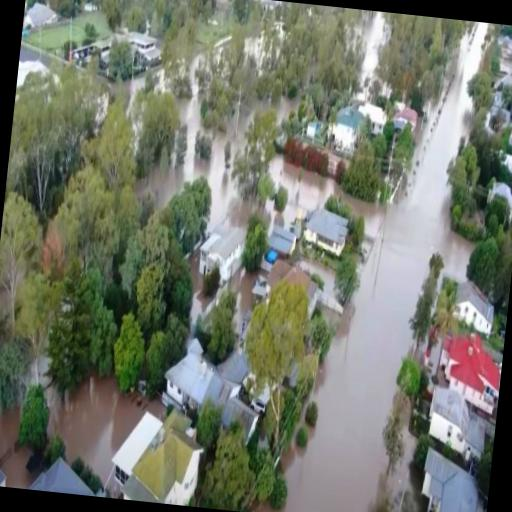flood: (269, 22, 488, 512), (137, 96, 256, 236), (49, 378, 163, 483), (189, 253, 210, 320), (227, 273, 255, 322), (366, 12, 384, 76), (301, 262, 334, 296), (2, 451, 30, 489), (254, 97, 298, 118), (123, 76, 144, 113), (0, 416, 17, 460), (188, 54, 199, 96)
house: (154, 337, 272, 460), (102, 398, 175, 504), (418, 388, 492, 466), (438, 330, 504, 410), (416, 444, 492, 512), (14, 452, 111, 498), (194, 224, 246, 295), (300, 202, 354, 262), (112, 22, 164, 80), (454, 276, 500, 338), (64, 22, 116, 74), (328, 102, 364, 152), (21, 0, 62, 41), (356, 100, 390, 140), (266, 226, 298, 258), (0, 457, 10, 487)
